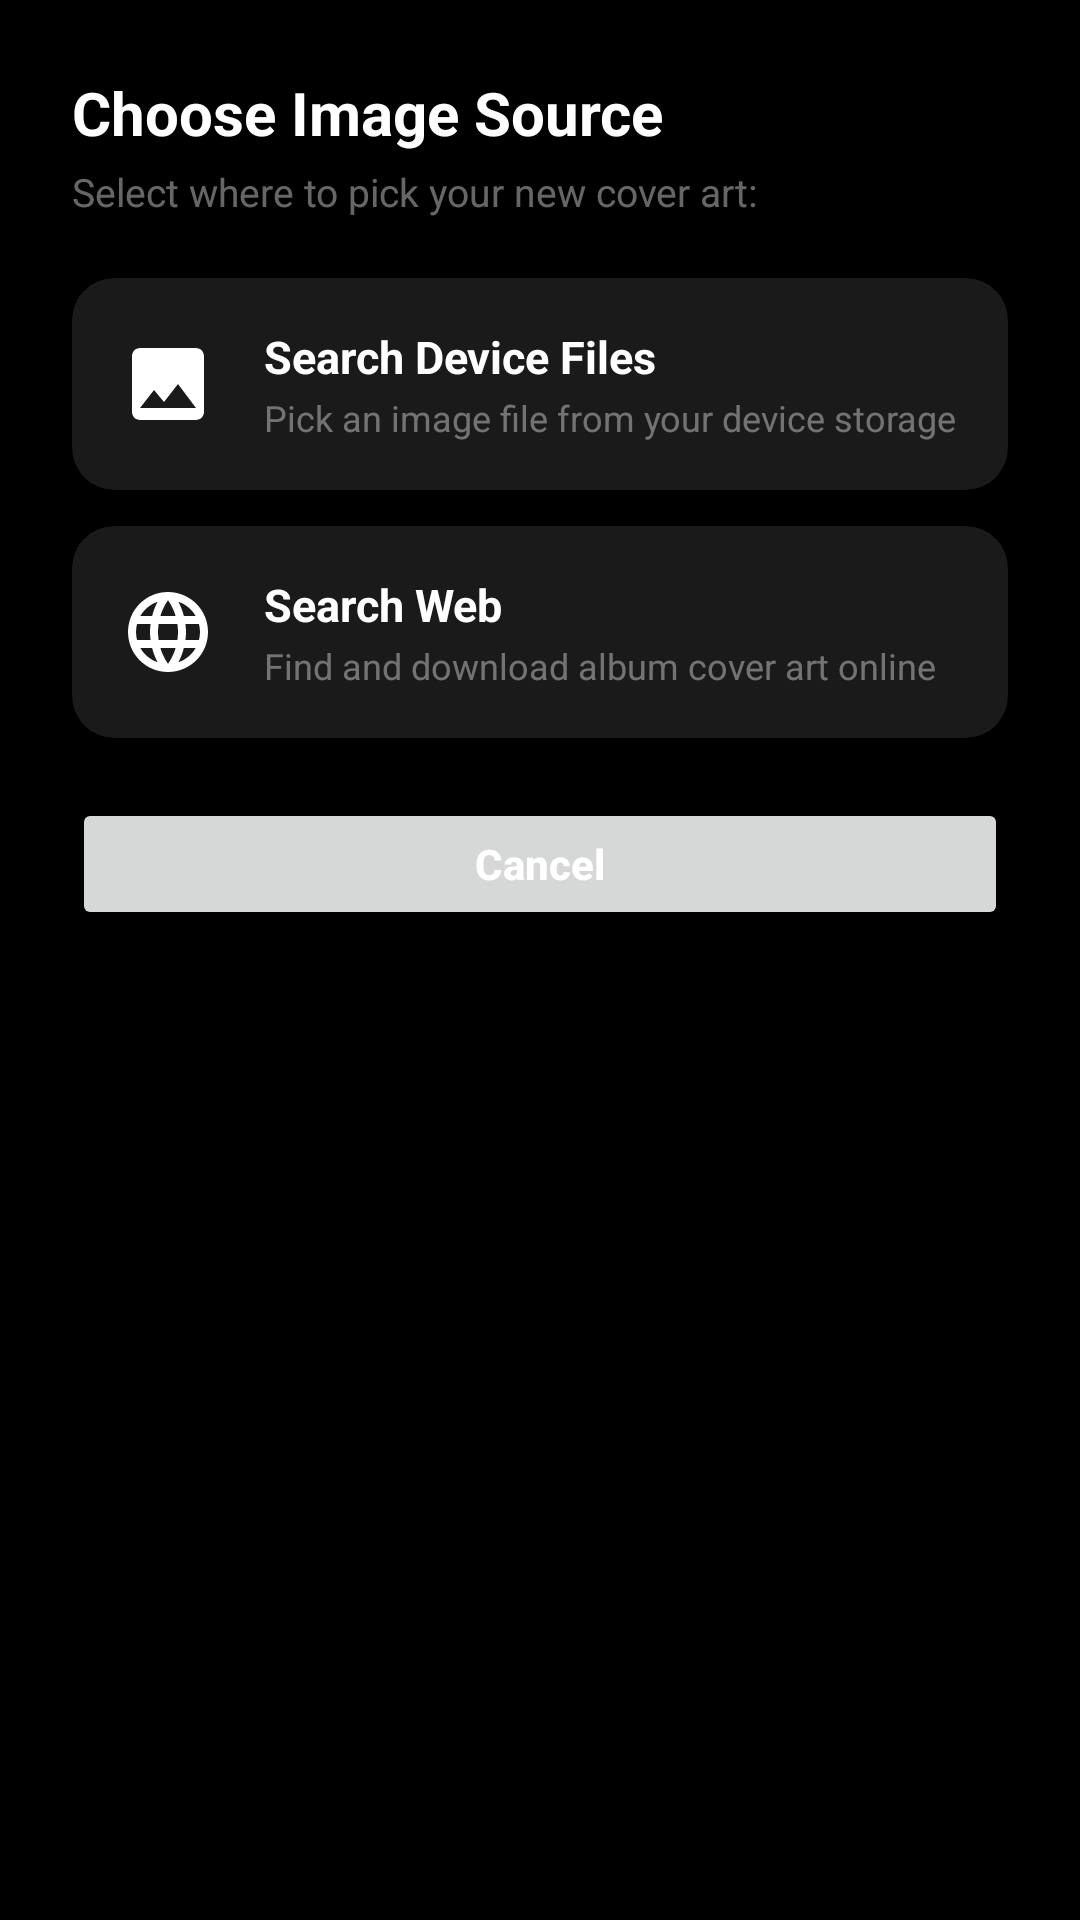

Icon bounding boxes for this 1080×1920 phone screenshot, format Rect(x1, y1, x2, y2):
language: Rect(128, 592, 208, 672)
